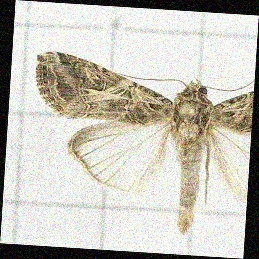Spodoptera litura: (30, 56, 250, 234)
